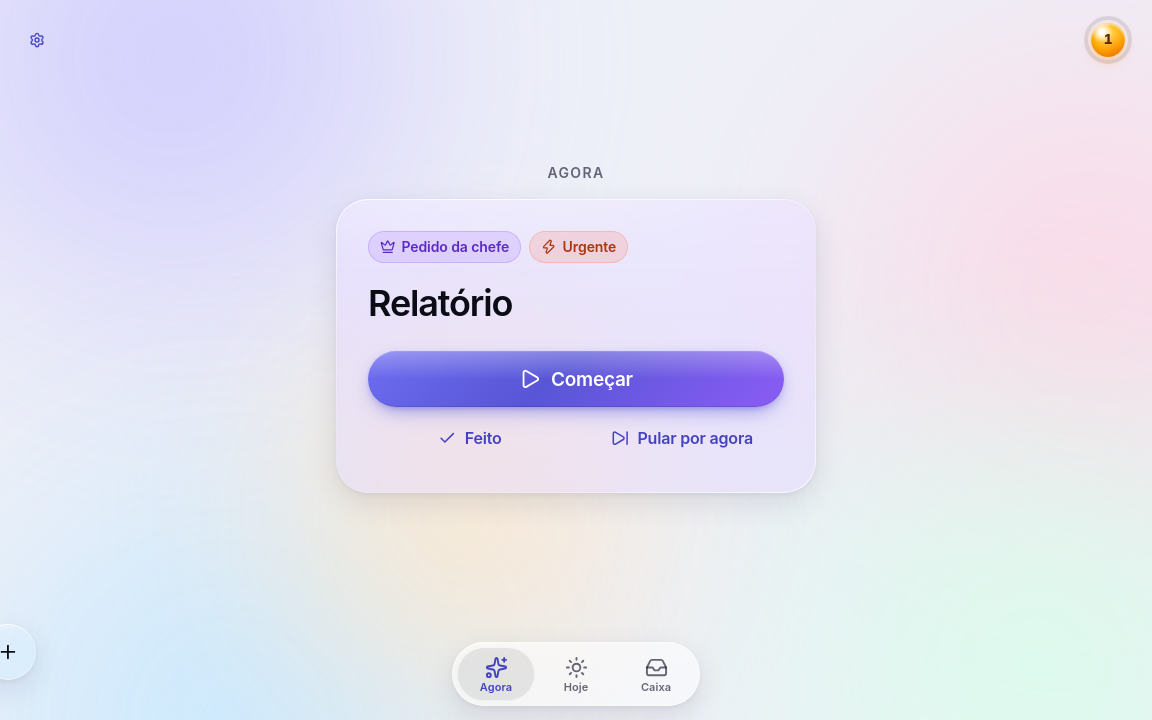
Agora › um único toast traz XP, marcos e Desfazer
Click the button "Feito" at (470, 438), box left=368, top=415, right=572, bottom=461
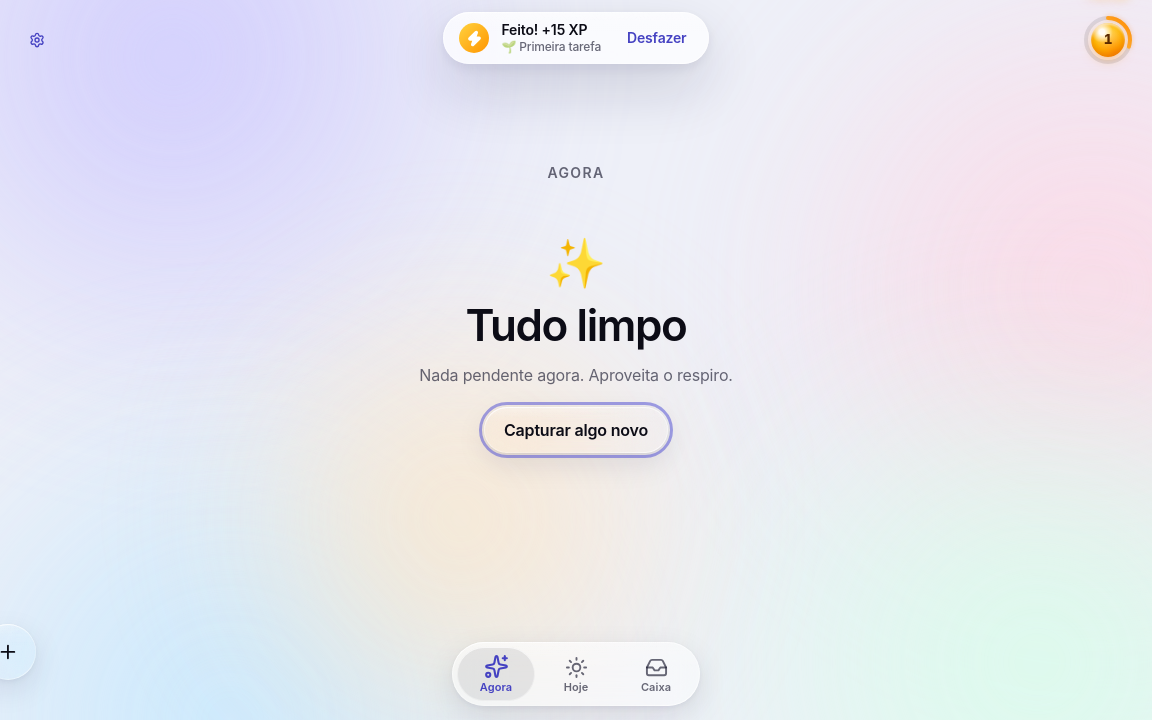
Result: the text "Feito! +15 XP" is shown once at left=502, top=21, right=601, bottom=38
Result: the button "Desfazer" is shown at left=613, top=21, right=700, bottom=55
